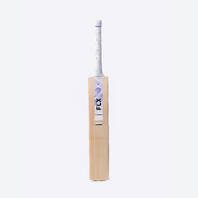bottom left: (86, 172, 98, 184)
bottom right: (105, 172, 119, 186)
top left: (83, 74, 94, 85)
top right: (104, 68, 119, 83)
